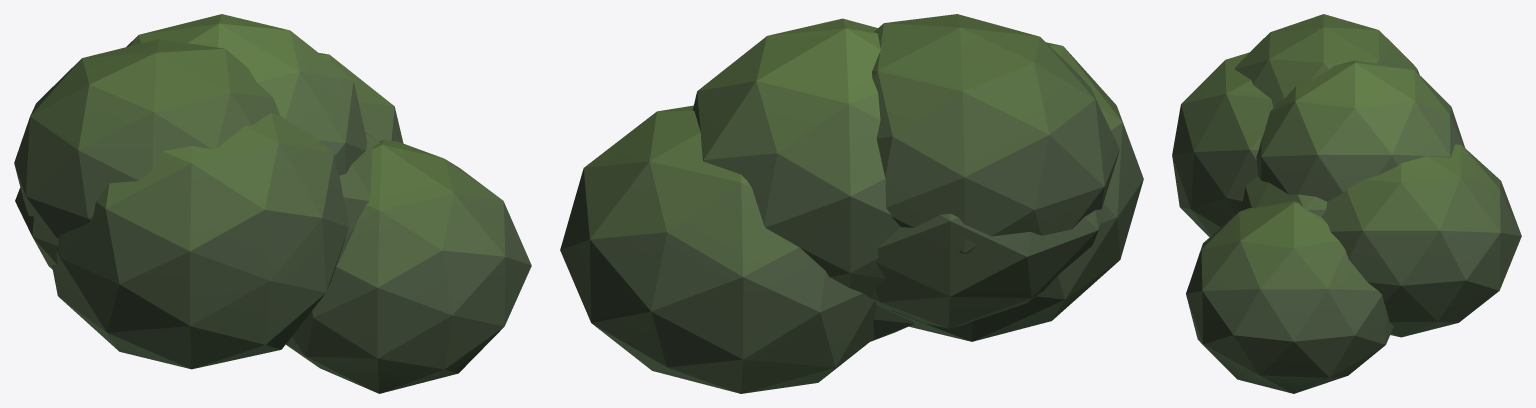
Rendered from busch_dicht.glb.
The picture shows the model from 3 angles, left to right: view 1: azimuth 30°, elevation 25°; view 2: azimuth 150°, elevation 25°; view 3: azimuth 270°, elevation 25°; orthographic projection. The views are drawn at different scales.
Parts seen in each view (by area): view 1: busch_dicht; view 2: busch_dicht; view 3: busch_dicht.
Boxes of the visible parts, <box> form: busch_dicht: <box>14,14,531,393</box>; busch_dicht: <box>560,14,1143,393</box>; busch_dicht: <box>1172,14,1521,393</box>.
Size of the model in its own units: 2.47 by 1.8 by 2.1.
